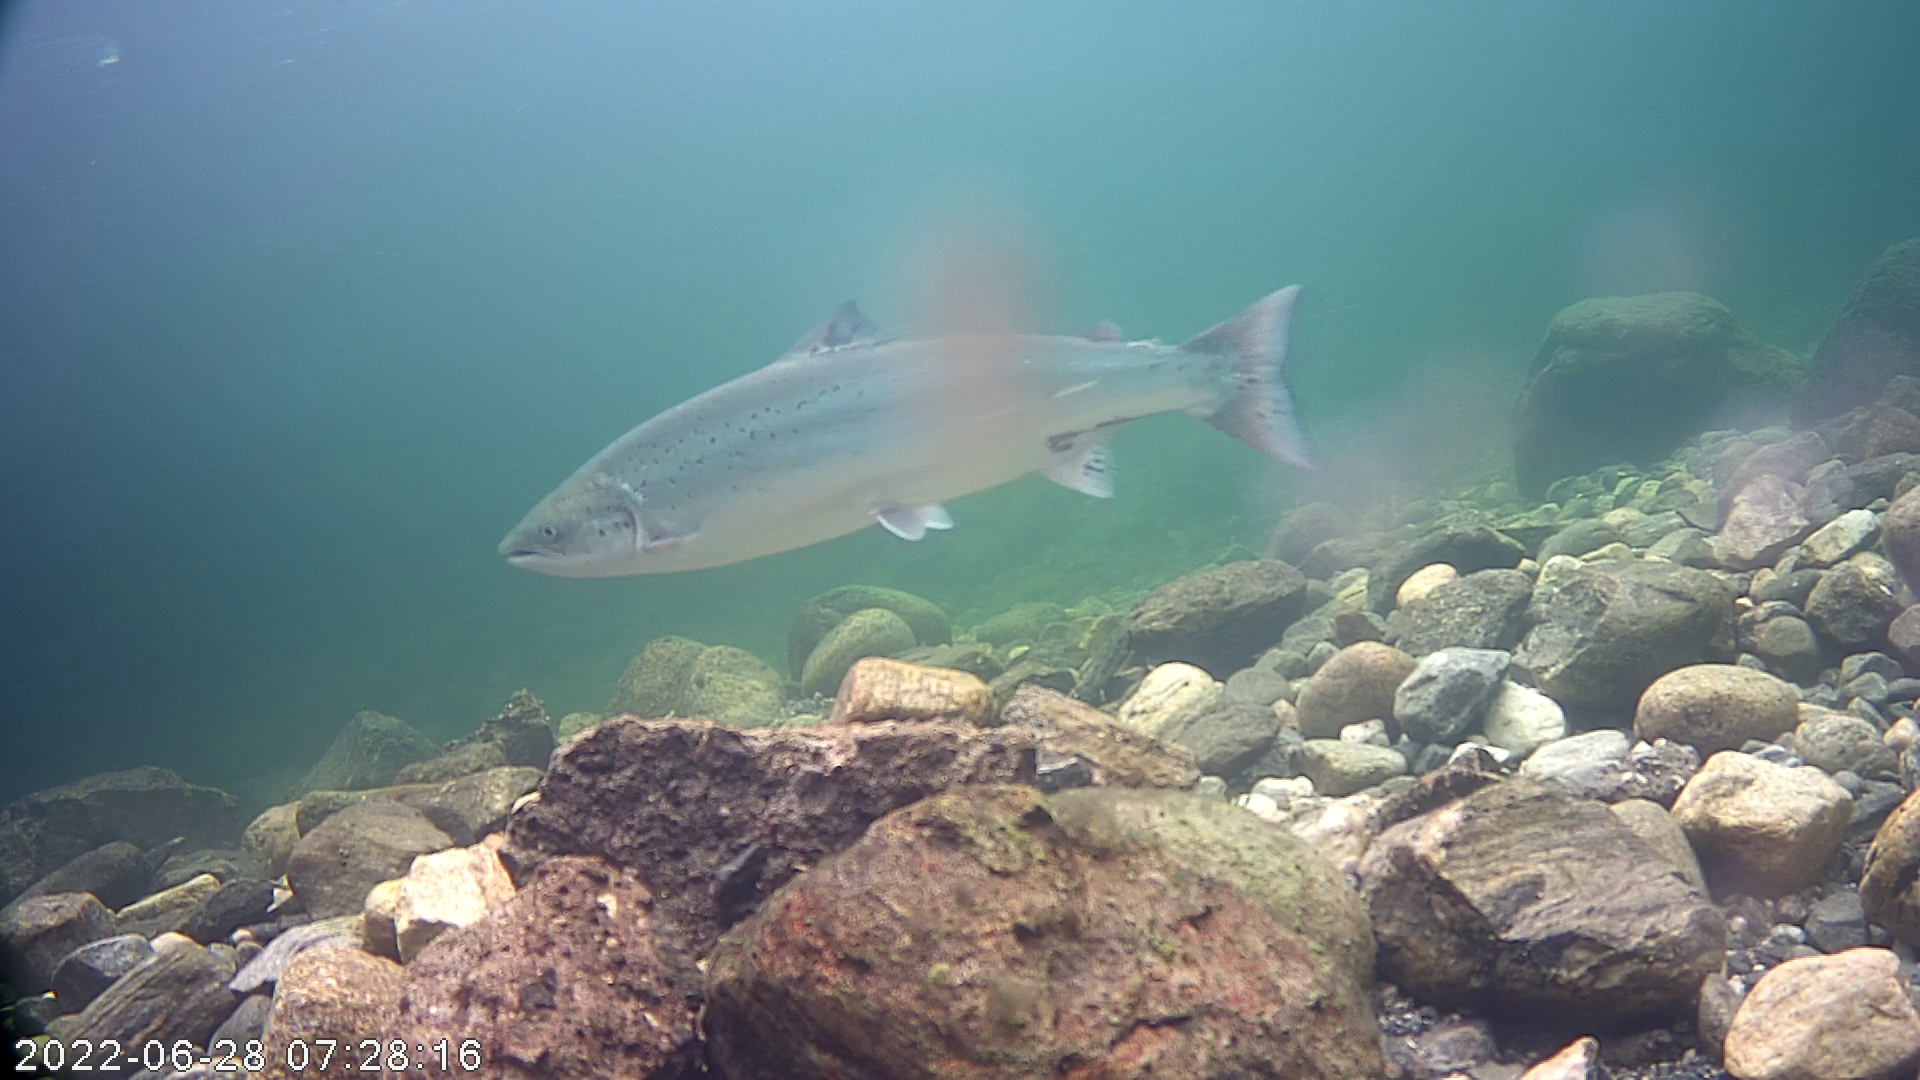salmon: (497, 200, 1346, 618)
